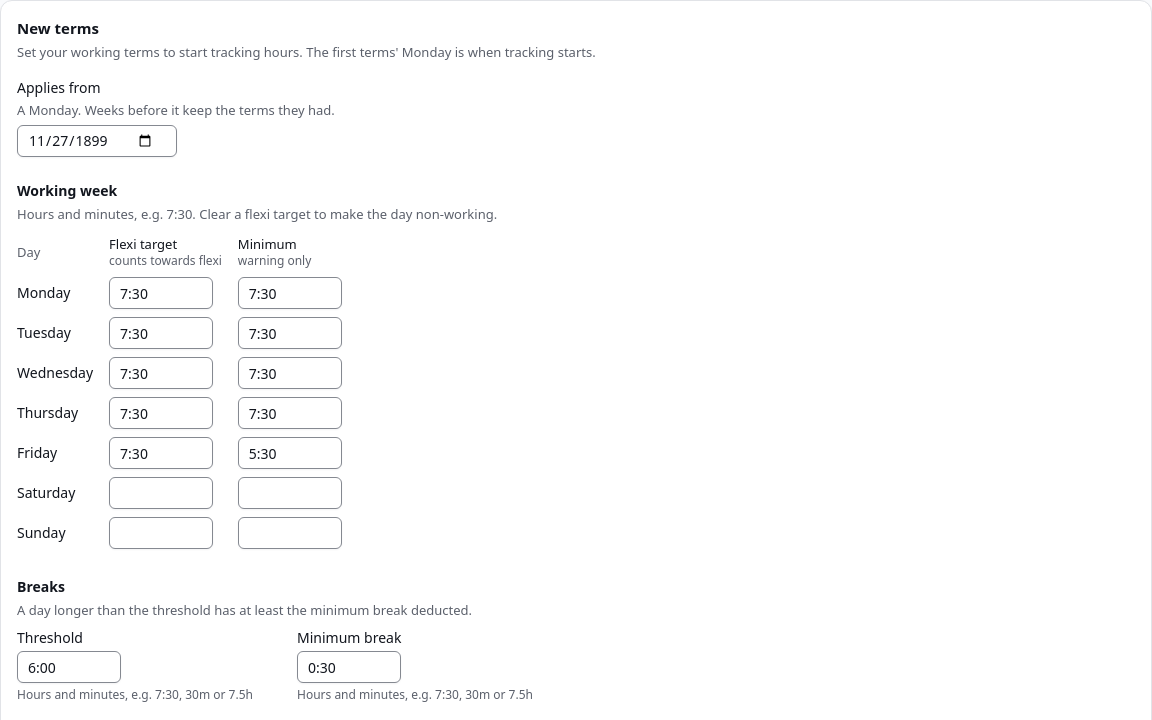
Test: TermsTab › invites the owner to set terms when there are none, and saves the first
The width and height of the screenshot is (1152, 720).
Expected: the text "Set your working terms to start tracking hours" is shown, left=17, top=43, right=596, bottom=61
Type "2026-10-05" into the date field labelled "Applies from" at (97, 141), box left=17, top=125, right=177, bottom=157
(page scrolled)
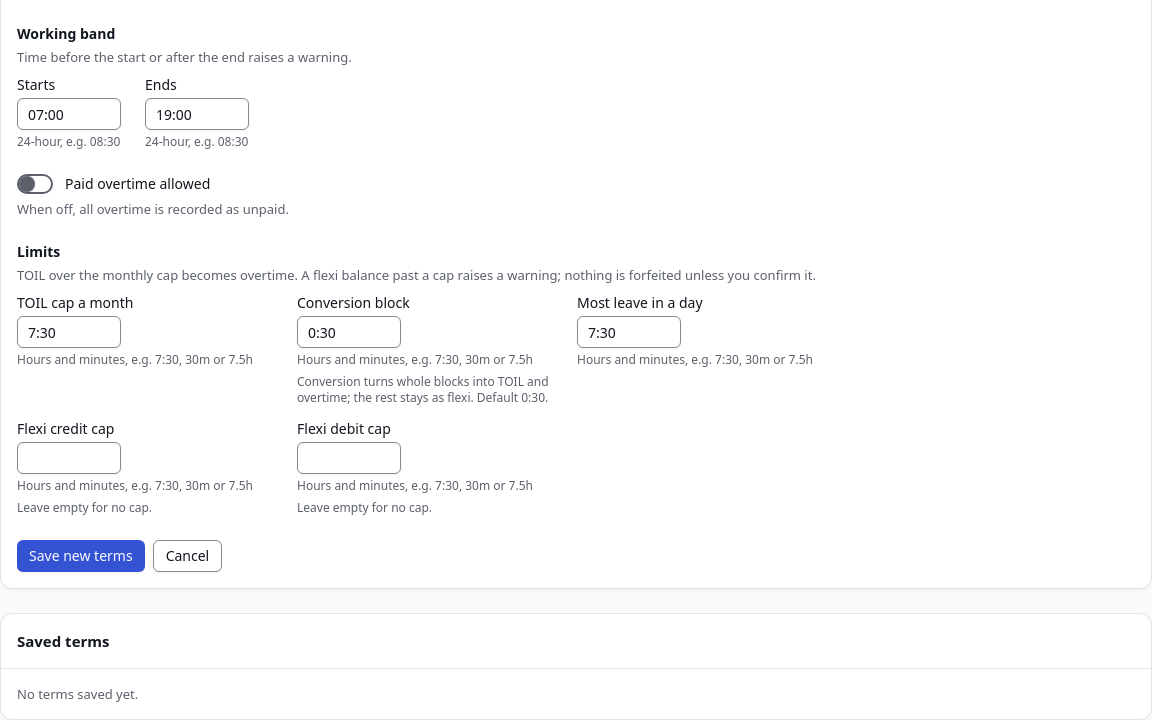
Click the button "Save new terms" at (81, 556), box left=17, top=540, right=145, bottom=572
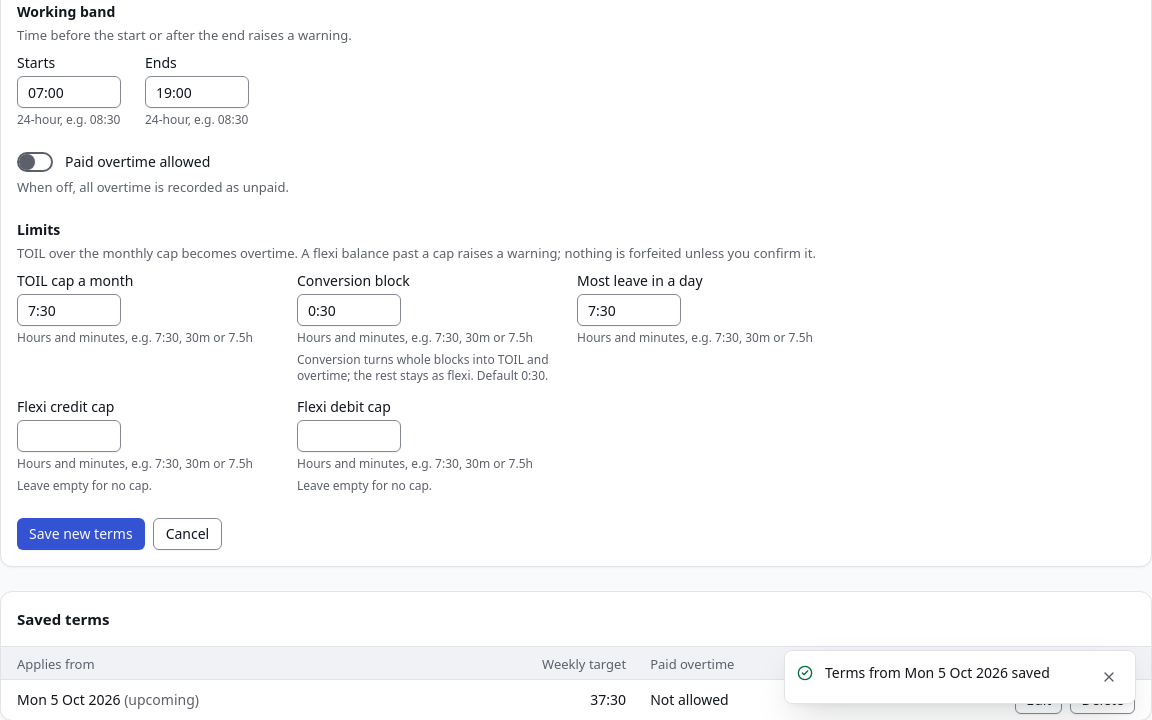
Result: the text "Terms from Mon 5 Oct 2026 saved" is shown at left=825, top=663, right=1083, bottom=683
Result: the text "(upcoming)" is shown at left=120, top=690, right=199, bottom=708
